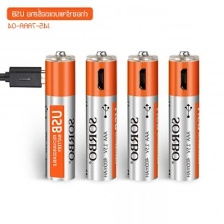battery: (166, 49, 202, 183), (124, 48, 160, 181), (83, 48, 118, 182), (43, 47, 77, 184)
